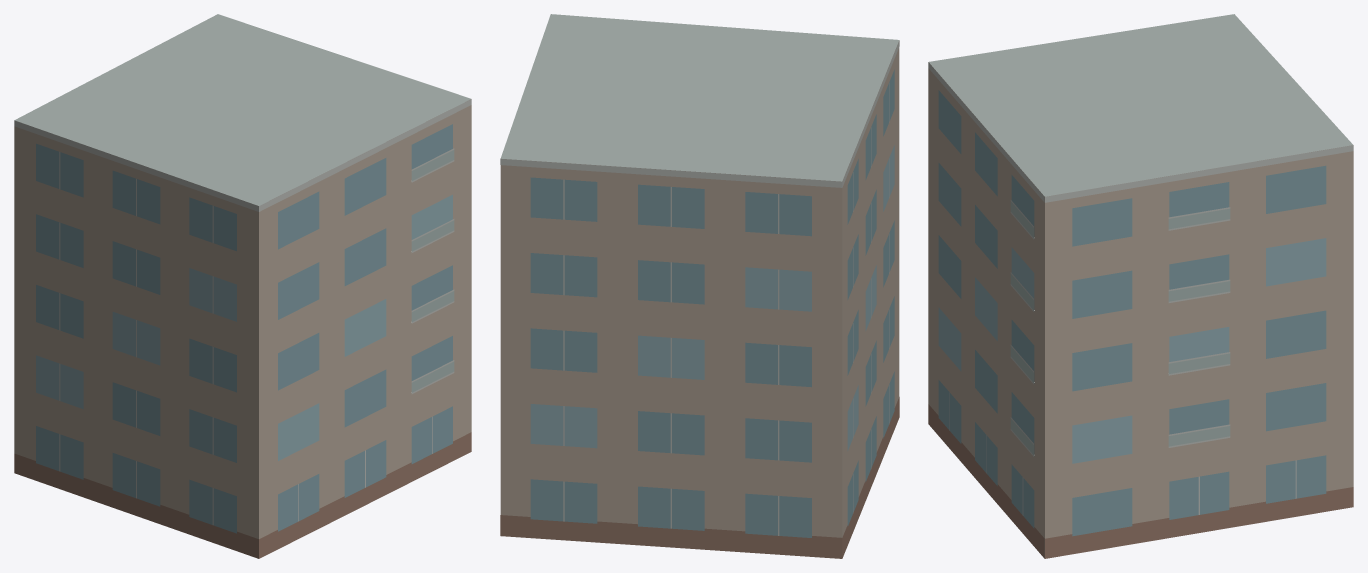
File: survey-upis-32854672.glb
3 views of the same model, side by side, from view 1: azimuth 30°, elevation 25°; view 2: azimuth 150°, elevation 25°; view 3: azimuth 270°, elevation 25° (orthographic). The views are drawn at different scales.
Visible parts, largest first — view 1: survey-upis-32854672.tmp; view 2: survey-upis-32854672.tmp; view 3: survey-upis-32854672.tmp.
Part boxes in pixels (x1,y1,x2,y2): survey-upis-32854672.tmp: (14, 14, 471, 558); survey-upis-32854672.tmp: (500, 14, 899, 558); survey-upis-32854672.tmp: (928, 14, 1353, 558).
Size of the model in its own units: 15.65 by 14.45 by 15.38.
